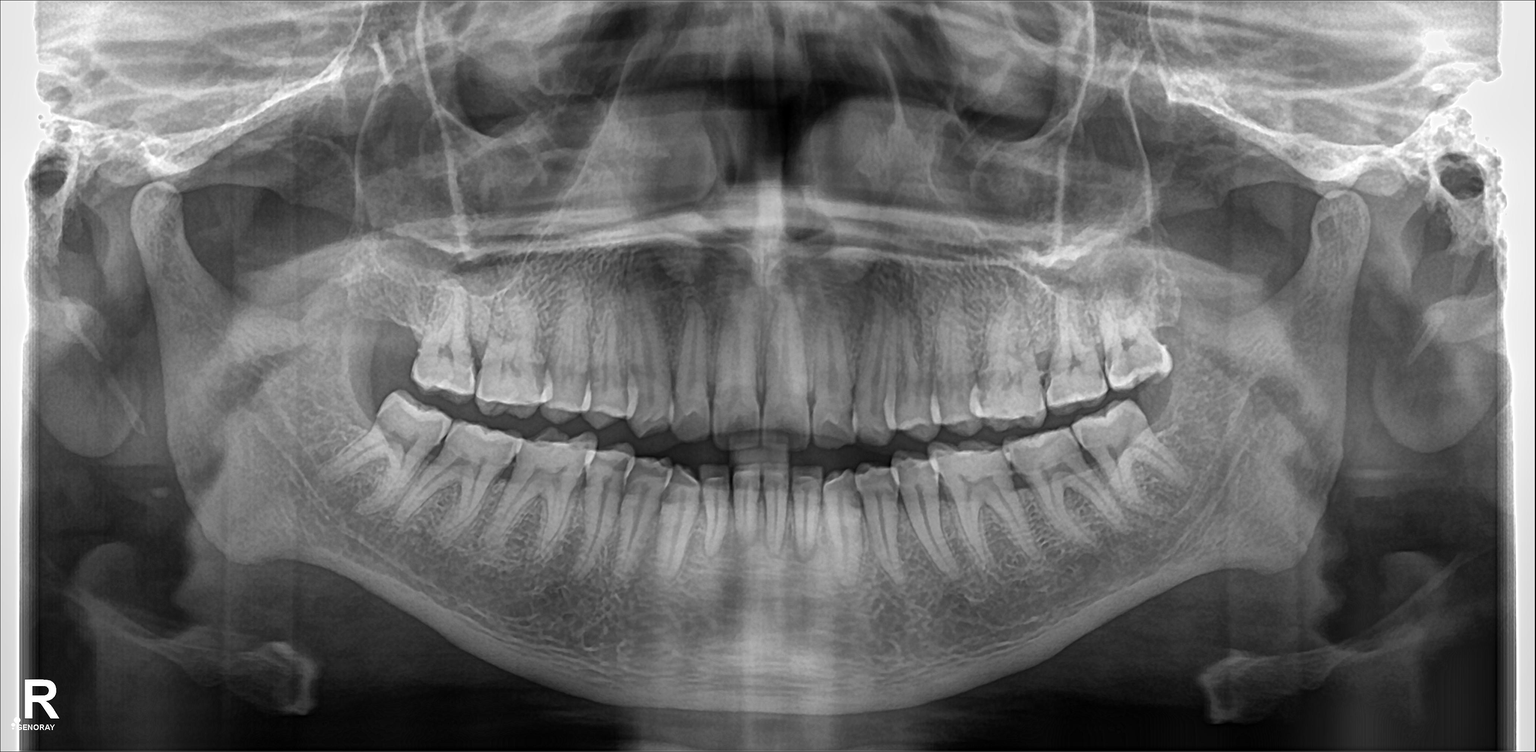Dental Caries: (1102, 333, 1159, 368)
Missing Tooth: (359, 296, 419, 381)
